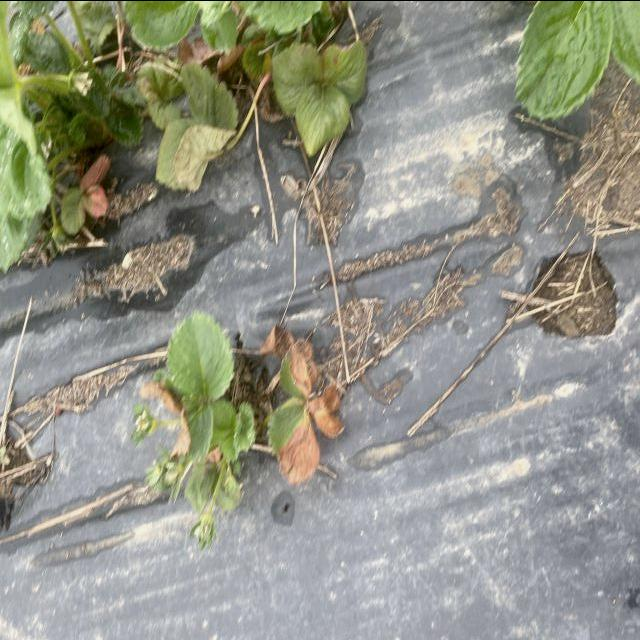flower: (506, 0, 639, 122)
